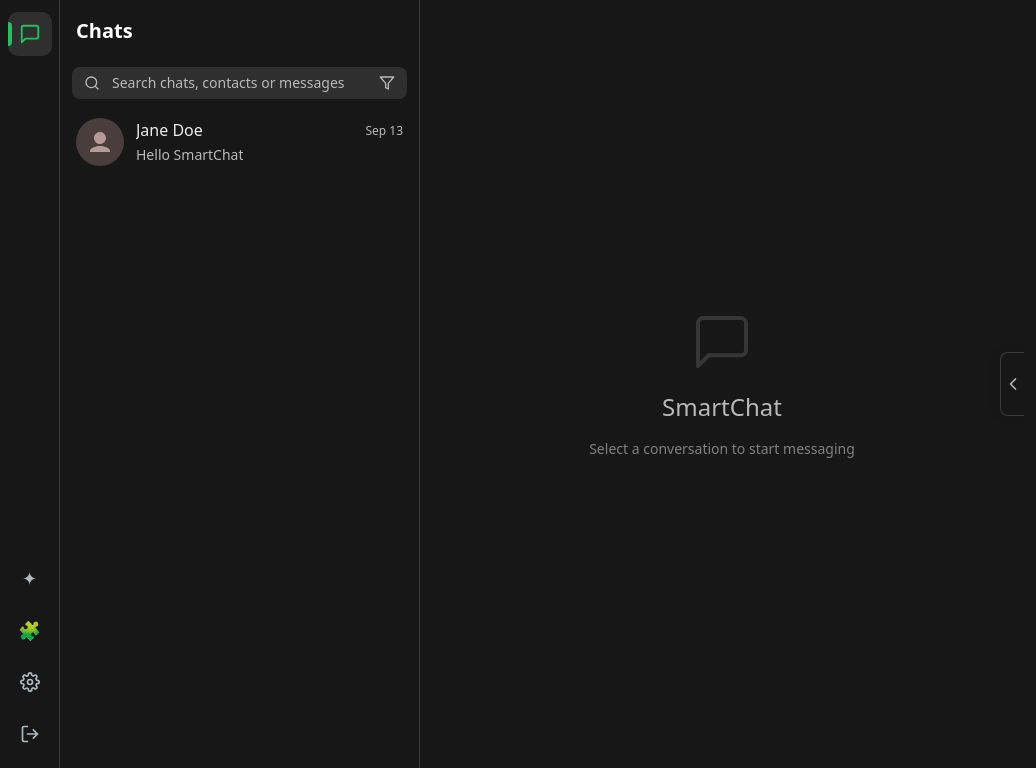
Test: ChatLayout › selects a chat and renders header, message view, and input area
Click the text "Jane Doe" at (169, 130), box x1=136 y1=119 x2=203 y2=141
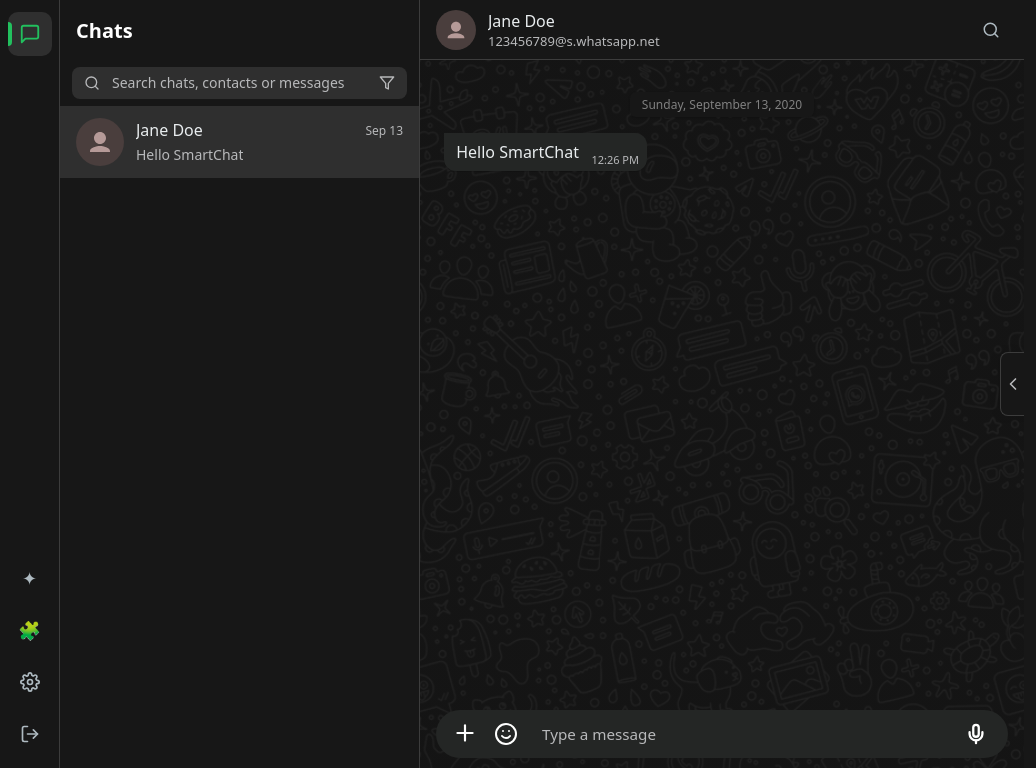
Expected: the text "Hello SmartChat" below "Sep 13" is shown, x1=136 y1=145 x2=244 y2=164
Expected: the button titled "Search messages" is shown, x1=974 y1=12 x2=1008 y2=46
